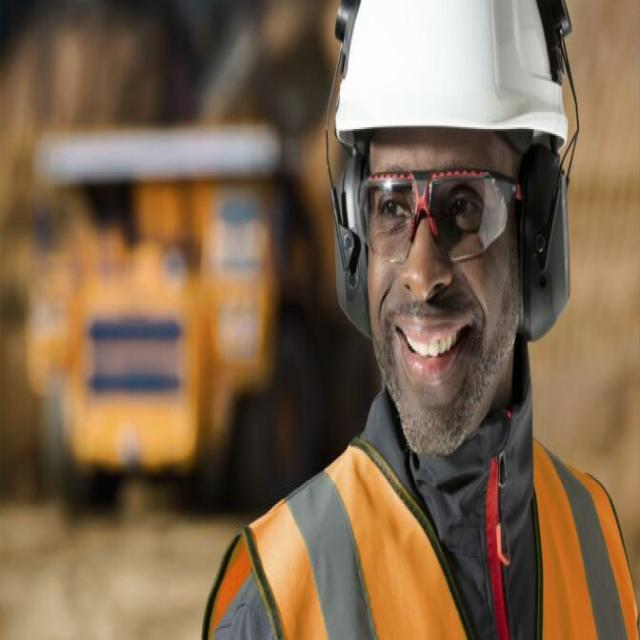goggles: (336, 166, 539, 260)
helmet: (320, 0, 579, 152)
vest: (196, 401, 640, 640)
